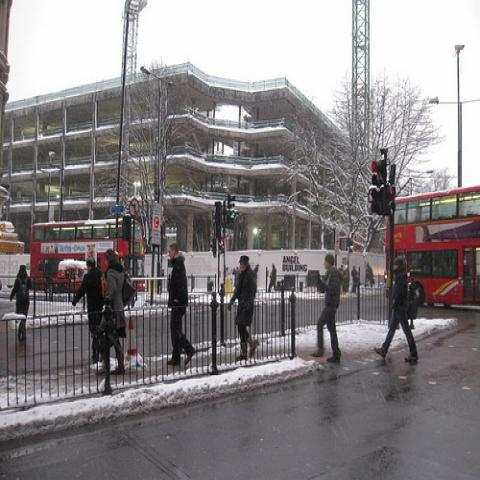bus: (384, 186, 479, 311), (30, 216, 146, 291)
